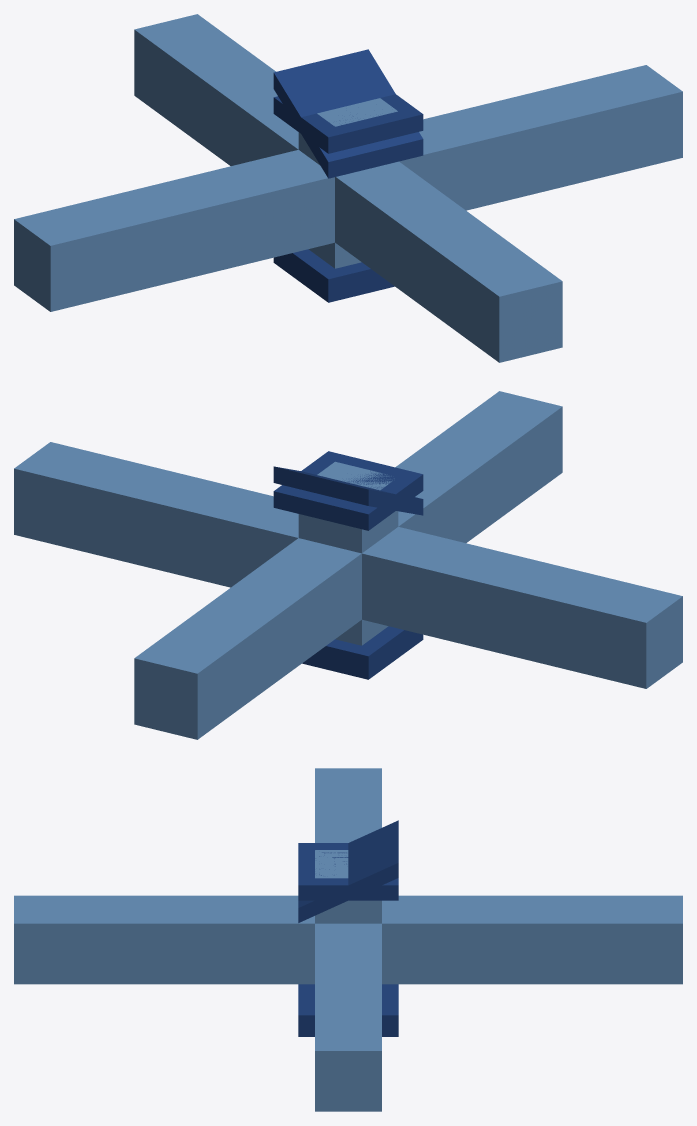
The model's file is pillar.glb.
3 renders of one model, top to bottom at view 1: azimuth 30°, elevation 25°; view 2: azimuth 150°, elevation 25°; view 3: azimuth 270°, elevation 25°, orthographic. The views are drawn at different scales.
Visible parts, largest first — view 1: PillarBranch3, PillarBranch5Top, PillarBranch4, PillarBranch2, PillarBranch1, PillarBranch5Middle, PillarTopSlope, PillarBranch1Top, PillarBranch5Bottom, SurfacePillarShort, PillarBottom, SurfacePillarBottom (+2 smaller); view 2: PillarBranch5Middle, PillarBranch5Top, PillarBranch3, PillarBranch1, PillarBranch2, PillarBranch4, PillarBranch1Bottom, PillarBranch5Bottom, PillarBranch1Top, SurfacePillarShort, PillarBottom, PillarTopSlope (+3 smaller); view 3: PillarBranch1, PillarBranch4, PillarBranch1Top, PillarBranch2, PillarBranch5Top, PillarBranch3, PillarBranch5Middle, PillarTopSlope, SurfacePillarShort, PillarBottom, SurfacePillarBottom, PillarBranch1Bottom.
Boxes of the visible parts, x1,y1,x2,y2 form: PillarBranch3: (14,166,334,311); PillarBranch5Top: (16,65,682,245); PillarBranch4: (335,161,562,362); PillarBranch2: (400,65,682,210); PillarBranch1: (134,14,316,165); PillarBranch5Middle: (22,67,682,310); PillarTopSlope: (273,49,423,258); PillarBranch1Top: (136,14,298,160); PillarBranch5Bottom: (50,158,673,310); SurfacePillarShort: (273,94,423,253); PillarBottom: (273,98,397,302); SurfacePillarBottom: (277,249,387,295); PillarBranch5Middle: (14,450,680,688); PillarBranch5Top: (15,442,680,688); PillarBranch3: (363,551,682,688); PillarBranch1: (134,511,398,739); PillarBranch2: (14,442,298,584); PillarBranch4: (395,391,562,542); PillarBranch1Bottom: (197,596,361,738); PillarBranch5Bottom: (14,469,639,686); PillarBranch1Top: (136,547,361,672); SurfacePillarShort: (273,451,423,628); PillarBottom: (298,461,423,679); PillarTopSlope: (273,466,423,645); PillarBranch1: (319,895,682,984); PillarBranch4: (14,895,314,984); PillarBranch1Top: (382,895,682,984); PillarBranch2: (315,924,381,1111); PillarBranch5Top: (315,768,381,1050); PillarBranch3: (315,768,381,842); PillarBranch5Middle: (315,769,381,1050); PillarTopSlope: (298,820,398,922); SurfacePillarShort: (298,843,398,921); PillarBottom: (298,850,398,1036); SurfacePillarBottom: (298,902,398,1030); PillarBranch1Bottom: (382,925,680,984).
Size of the model in its own units: 20 by 5.75 by 20.
